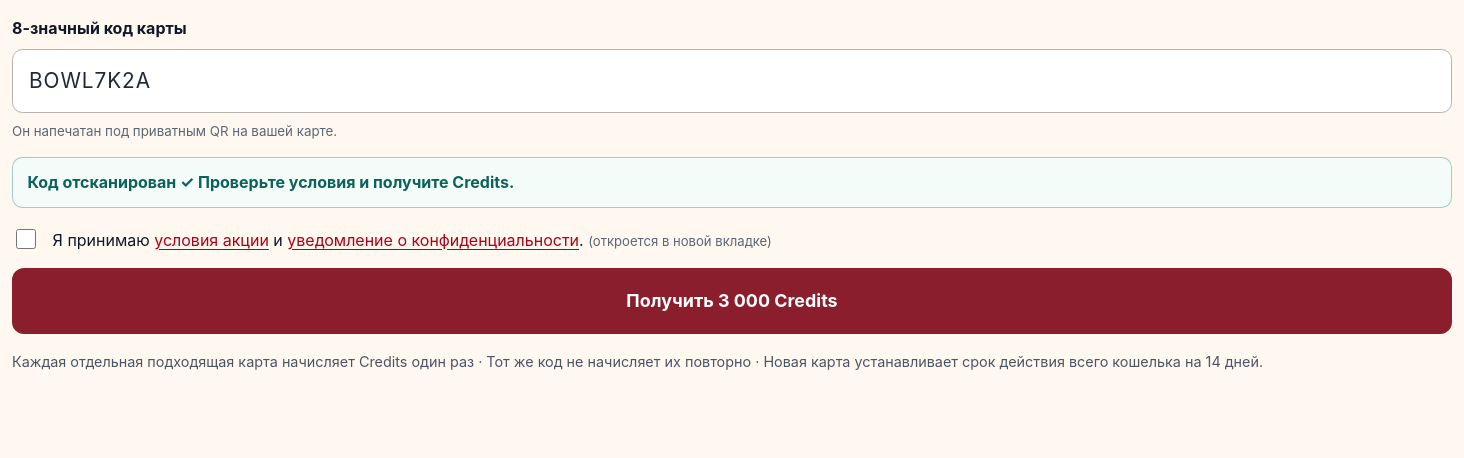
Test: RedeemForm › maps a paused validation response to explicit localized guidance in ru
The image size is (1464, 458).
Step 1. Click the checkbox named "termsAccepted" → (26, 239), box left=16, top=229, right=36, bottom=249
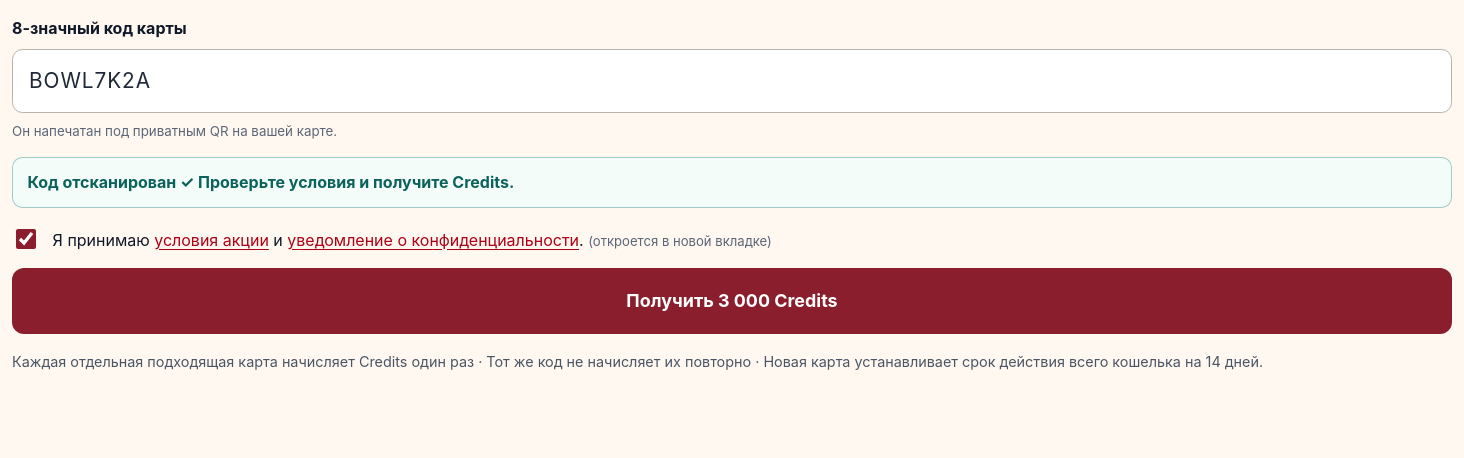
Step 2. Submit the form
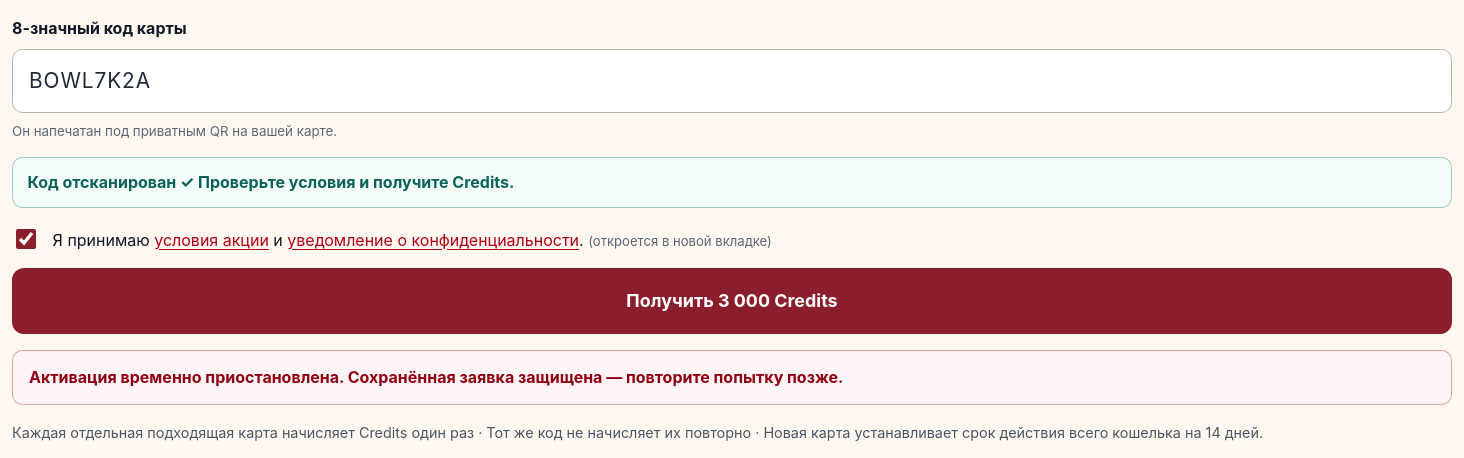
Check: the text "Активация временно приостановлена. Сохранённая заявка защищена — повторите попытку позже." is shown, box left=29, top=367, right=843, bottom=387
